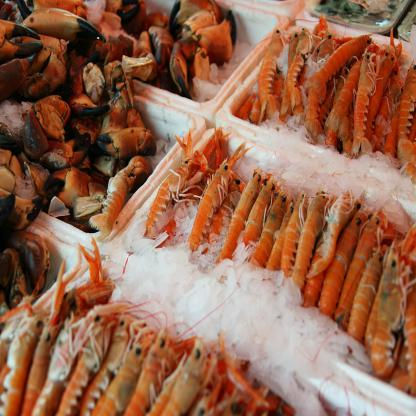shrimp: (366, 244, 400, 382), (340, 212, 381, 326), (218, 170, 262, 269), (4, 314, 41, 416), (145, 158, 188, 241), (164, 341, 212, 415), (127, 335, 167, 416), (192, 163, 226, 253), (294, 193, 324, 291), (96, 163, 130, 237), (319, 194, 349, 272), (281, 192, 307, 279), (319, 31, 367, 78), (257, 194, 286, 267), (258, 29, 280, 119), (245, 178, 274, 244), (353, 57, 372, 150), (286, 29, 308, 107), (398, 64, 416, 154)
